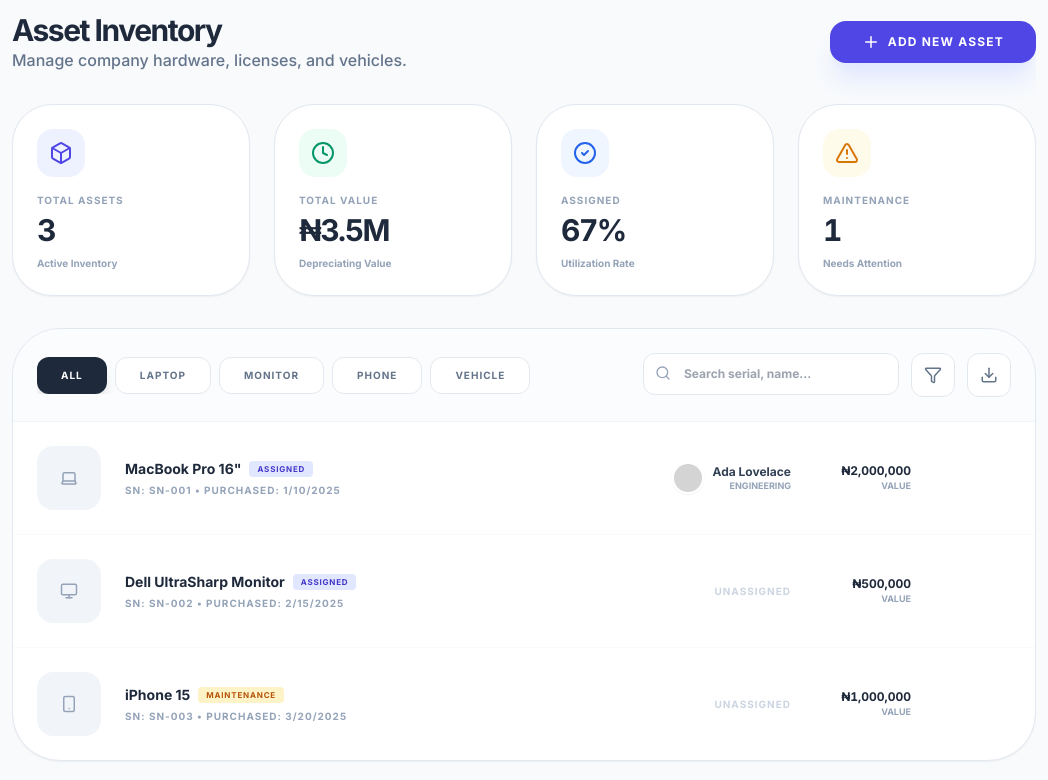
Test: AssetManagement › combines the search box with the active category filter (AND, not OR)
This screenshot has width=1048, height=780.
Click the button "Laptop".
click(163, 375)  # box [115,356,211,394]
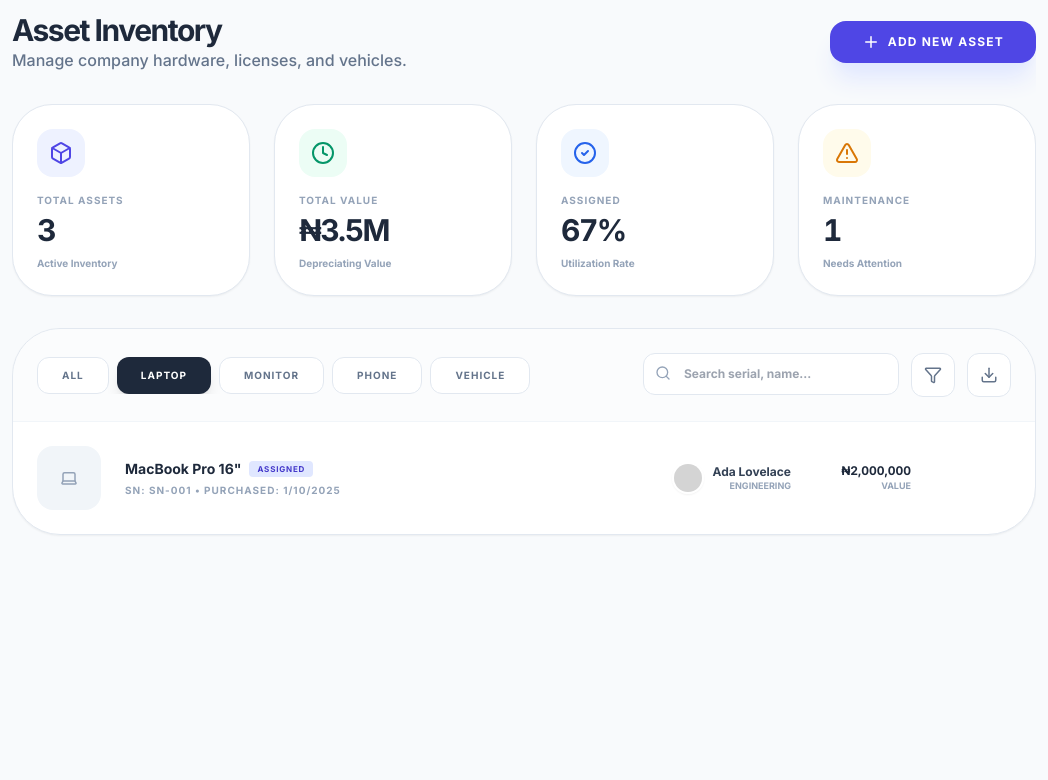
Type "iphone" into the field with placeholder "Search serial, name...".
click(771, 374); type("iphone")  # box [643,353,899,395]
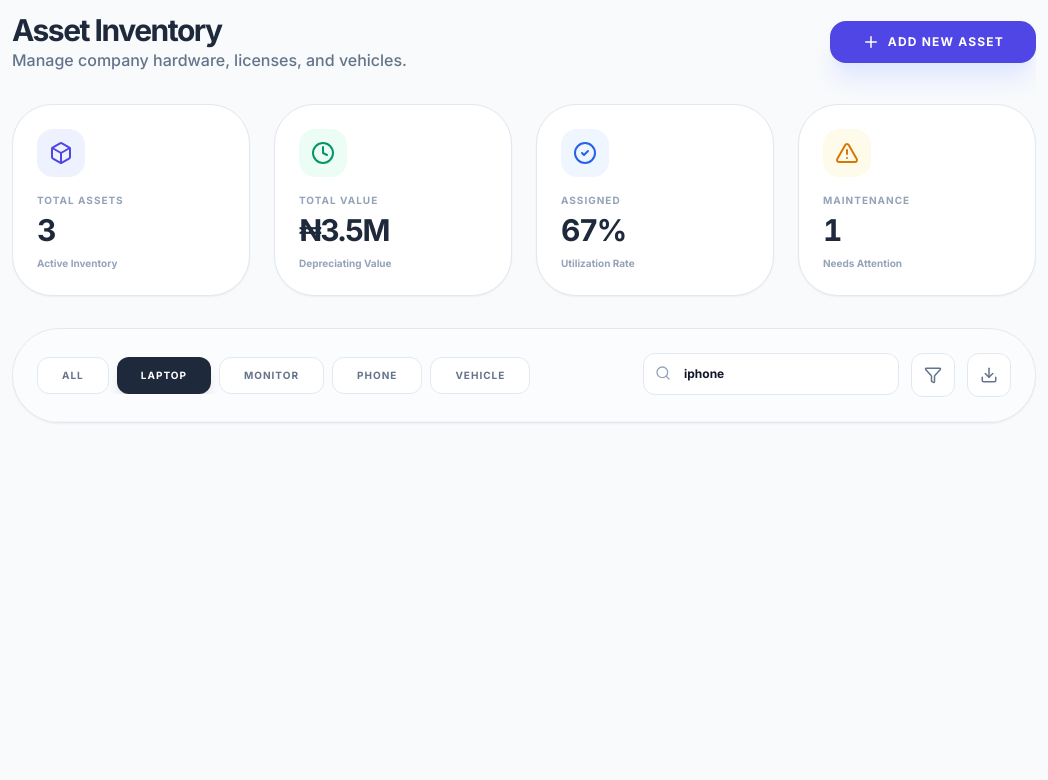
expect the heading "iPhone 15" is not shown: met
expect the heading "MacBook Pro 16\"" is gone: met
